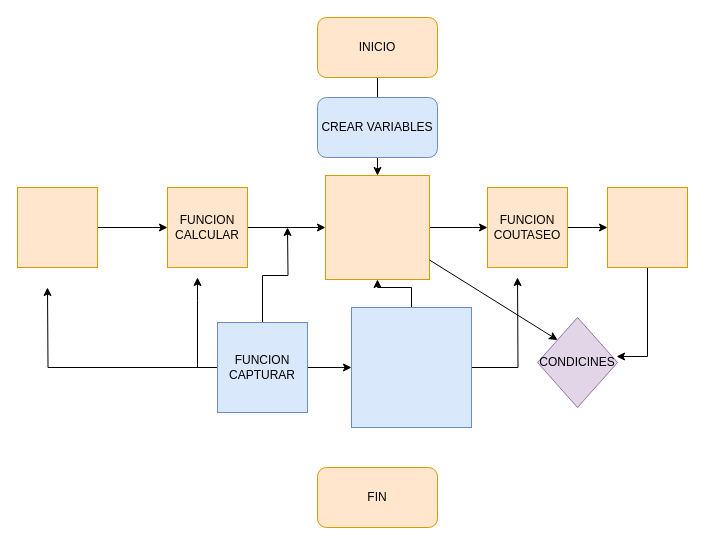
This 705x545 diagram has some shape labels left out. The shapes that lost their labels are listed below. From the top down, each one's box as (x1, y1, x2, y2) in pixels, then its label:
(16, 186, 98, 268): FUNCION PEDIR
(324, 174, 430, 280): FUNCION ADMINISTRACON
(606, 186, 688, 268): FUNCION VALORGIM
(350, 306, 472, 428): FUNCION REGISTRARUSUARIO
